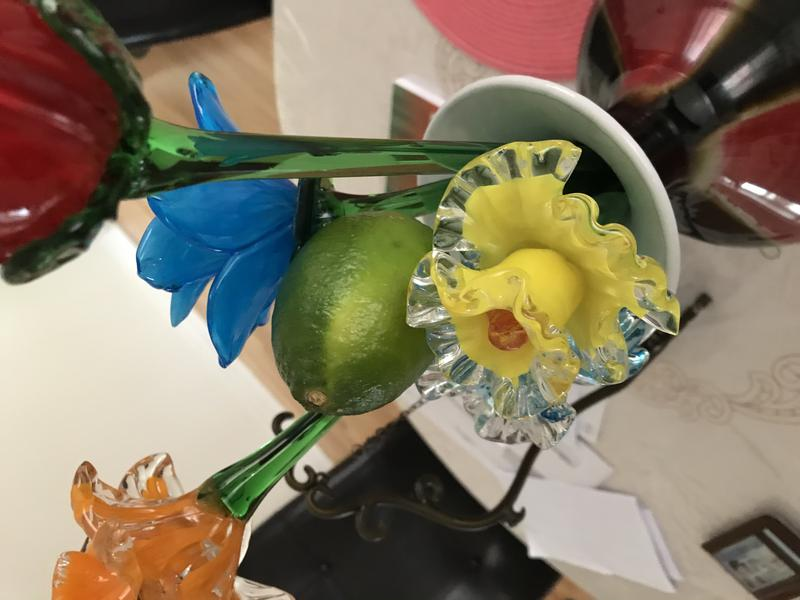lime: (262, 200, 469, 429)
